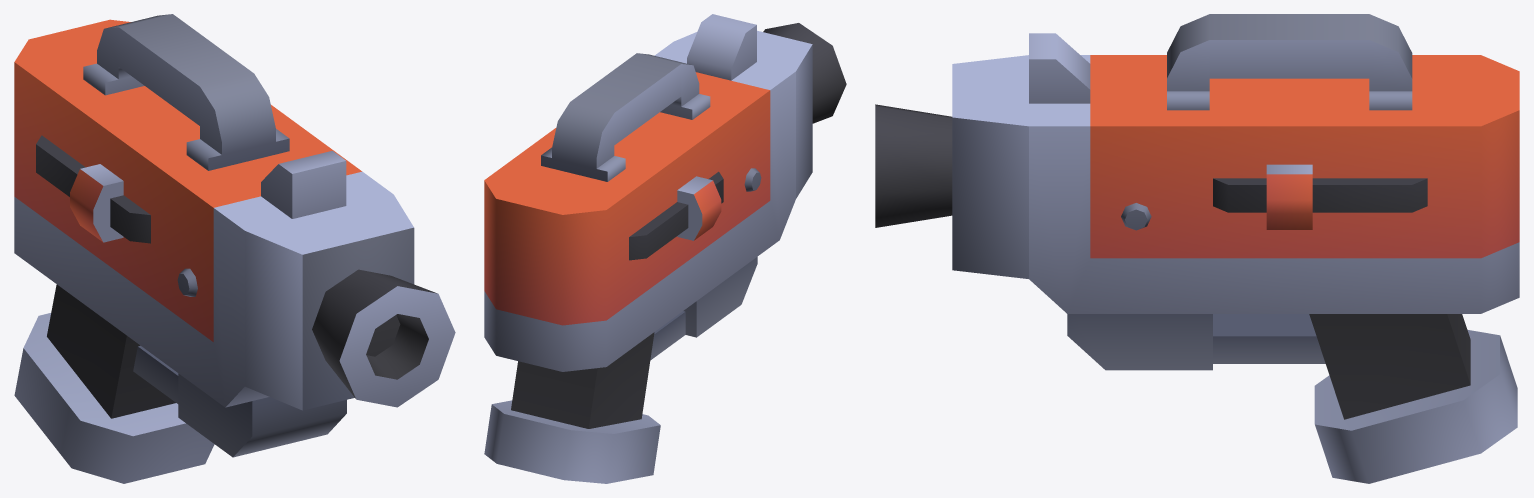
Rendered from weapon_water_gun.glb.
3 renders of one model, left to right at view 1: azimuth 30°, elevation 25°; view 2: azimuth 150°, elevation 25°; view 3: azimuth 270°, elevation 25°, orthographic. The views are drawn at different scales.
Visible parts, largest first — view 1: blaster-b; view 2: blaster-b; view 3: blaster-b.
Part boxes in pixels (box(x1,y1,x2,y2)): blaster-b: box(14, 14, 455, 483); blaster-b: box(484, 14, 846, 483); blaster-b: box(875, 14, 1519, 483).
Bounding box in the file's own units: 11.07 × 22.17 × 30.
